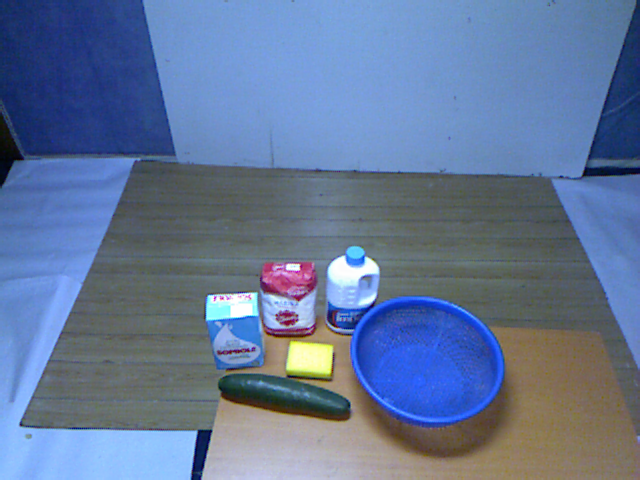cloro: (323, 243, 385, 336)
colador: (348, 293, 510, 433)
esponja: (280, 335, 338, 386)
harina: (254, 257, 322, 343)
leche: (200, 288, 271, 368)
pepino: (211, 362, 354, 435)
